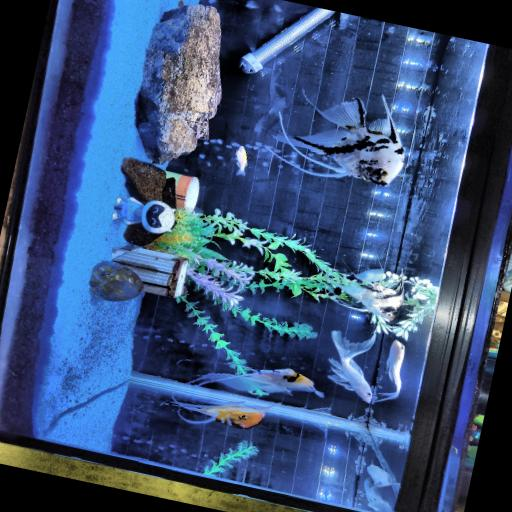Fish: (267, 95, 403, 185), (197, 367, 322, 396), (328, 330, 375, 402), (162, 397, 269, 428), (338, 268, 403, 319), (374, 339, 404, 401), (364, 464, 398, 511), (364, 478, 392, 511), (366, 464, 398, 486), (235, 145, 246, 174)
